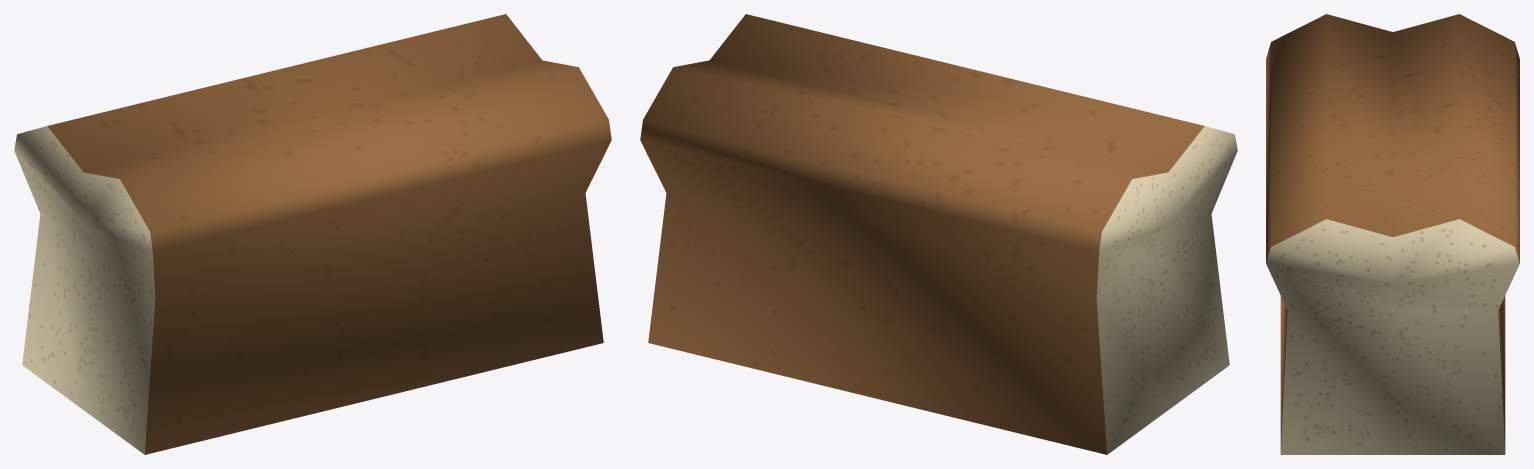
The model's file is bread.fbx.
3 views of the same model, side by side, from view 1: azimuth 30°, elevation 25°; view 2: azimuth 150°, elevation 25°; view 3: azimuth 270°, elevation 25° (orthographic). The views are drawn at different scales.
Parts seen in each view (by area): view 1: Cube; view 2: Cube; view 3: Cube.
Part boxes in pixels (left/top/right/bottom): Cube: left=14, top=14, right=611, bottom=454; Cube: left=640, top=14, right=1237, bottom=454; Cube: left=1266, top=14, right=1519, bottom=454.
Bounding box in the file's own units: 30.25 × 16.22 × 15.82.
